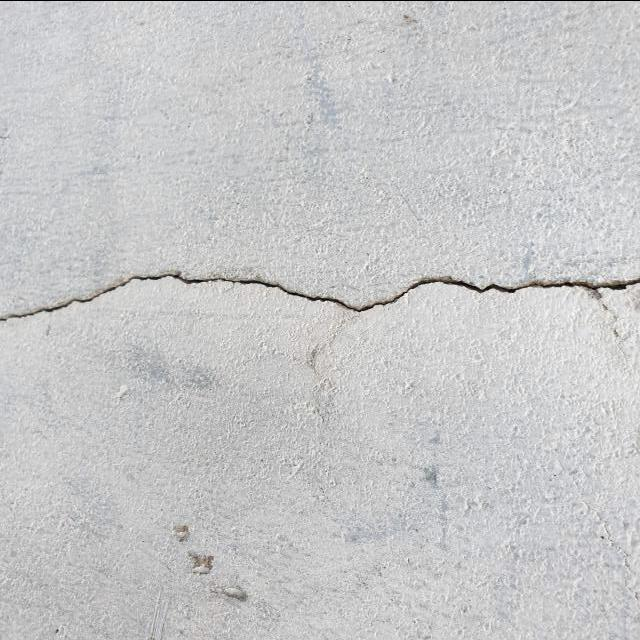SurfaceCrack: (0, 230, 639, 370)
